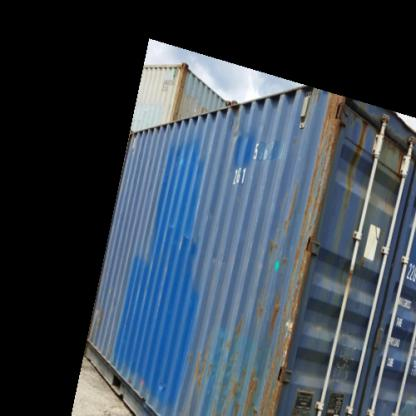Damage: (255, 282, 310, 362), (237, 369, 280, 415), (318, 92, 343, 164), (190, 334, 218, 390), (164, 216, 200, 248), (337, 329, 358, 382), (343, 151, 362, 194), (208, 250, 242, 273), (354, 114, 372, 154), (230, 115, 246, 146), (266, 229, 282, 256), (154, 378, 172, 394)
